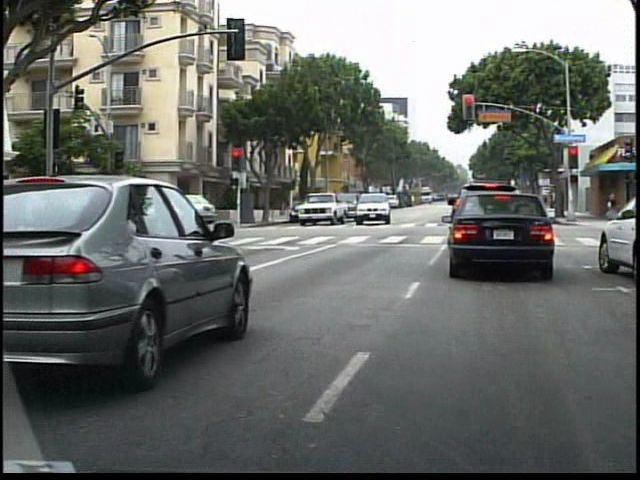person: (121, 191, 139, 235), (140, 193, 157, 233)
